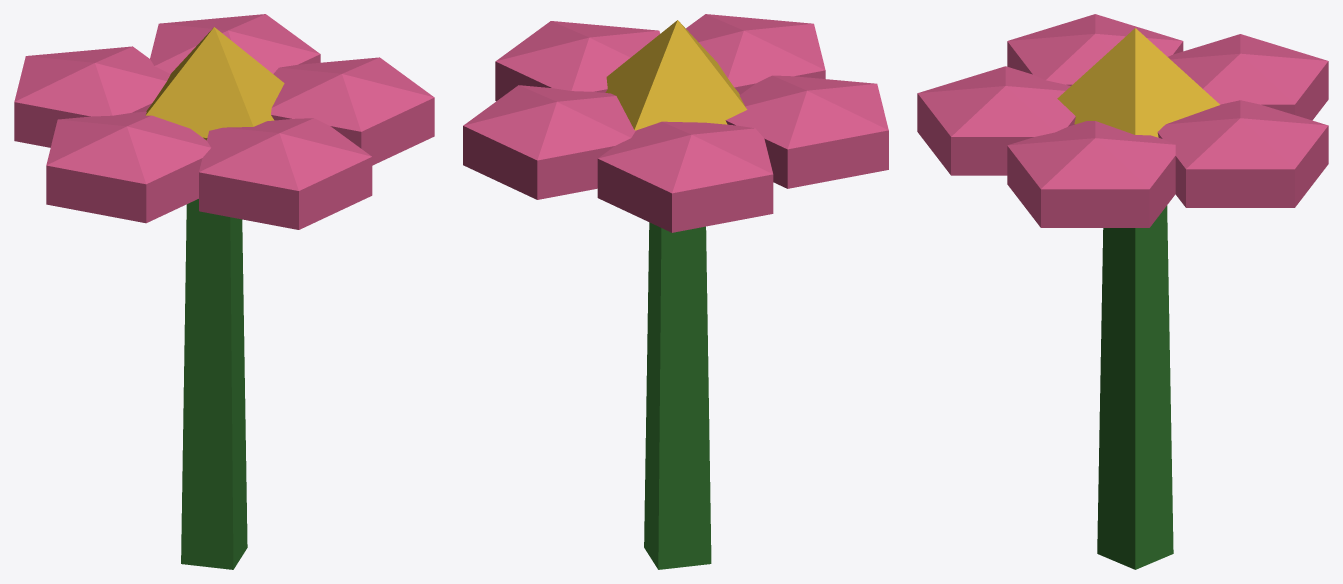
Rendered from biome-clover-flowerPink.glb.
3 renders of one model, left to right at view 1: azimuth 30°, elevation 25°; view 2: azimuth 150°, elevation 25°; view 3: azimuth 270°, elevation 25°, orthographic.
Size of the model in its own units: 0.5427 by 0.76 by 0.5382.
